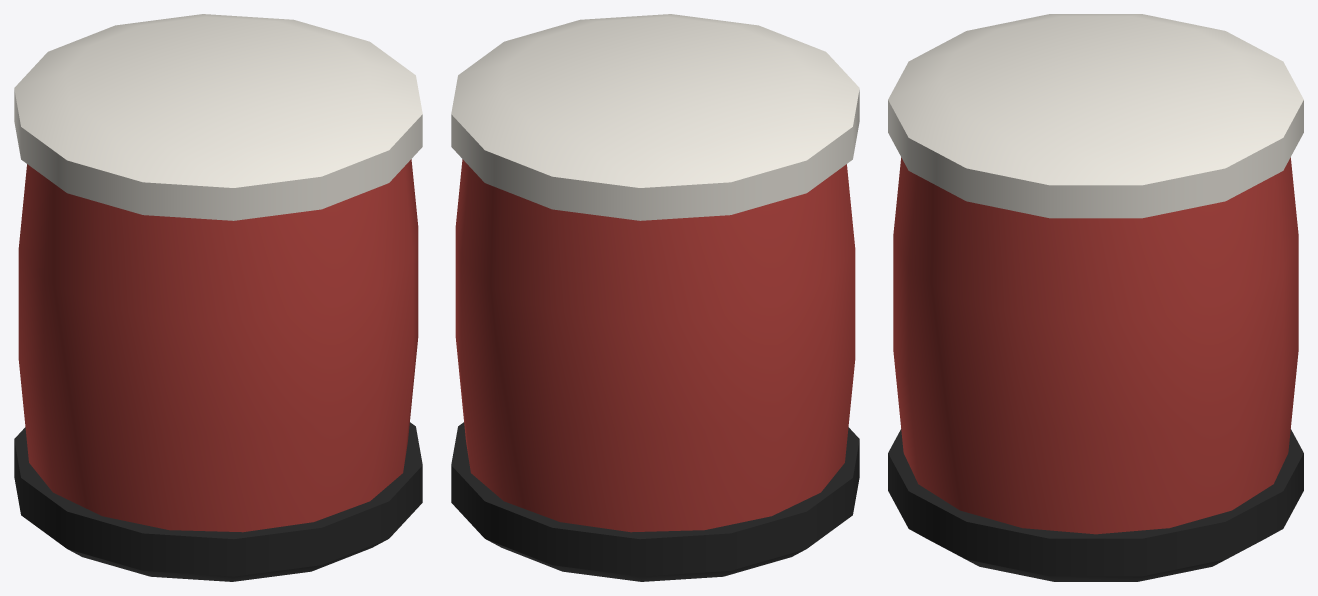
File: pod_lod1.glb
3 renders of one model, left to right at view 1: azimuth 30°, elevation 25°; view 2: azimuth 150°, elevation 25°; view 3: azimuth 270°, elevation 25°, orthographic.
Parts seen in each view (by area): view 1: pod_lod1; view 2: pod_lod1; view 3: pod_lod1.
Part boxes in pixels (x1=…): pod_lod1: x1=14, y1=14, x2=422, y2=581; pod_lod1: x1=451, y1=14, x2=859, y2=581; pod_lod1: x1=888, y1=14, x2=1303, y2=581.
Size of the model in its own units: 0.078 by 0.09 by 0.08.
